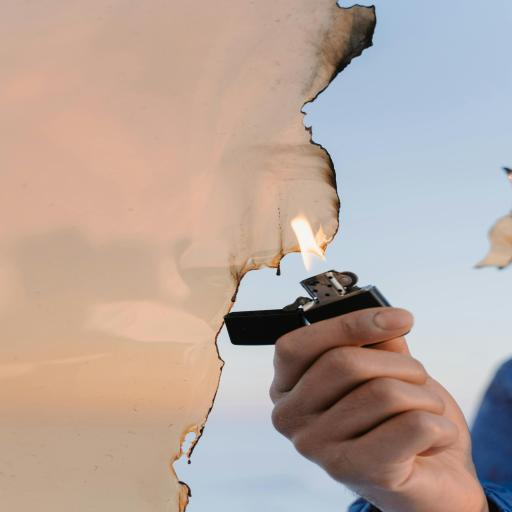lighter: (206, 198, 416, 351)
